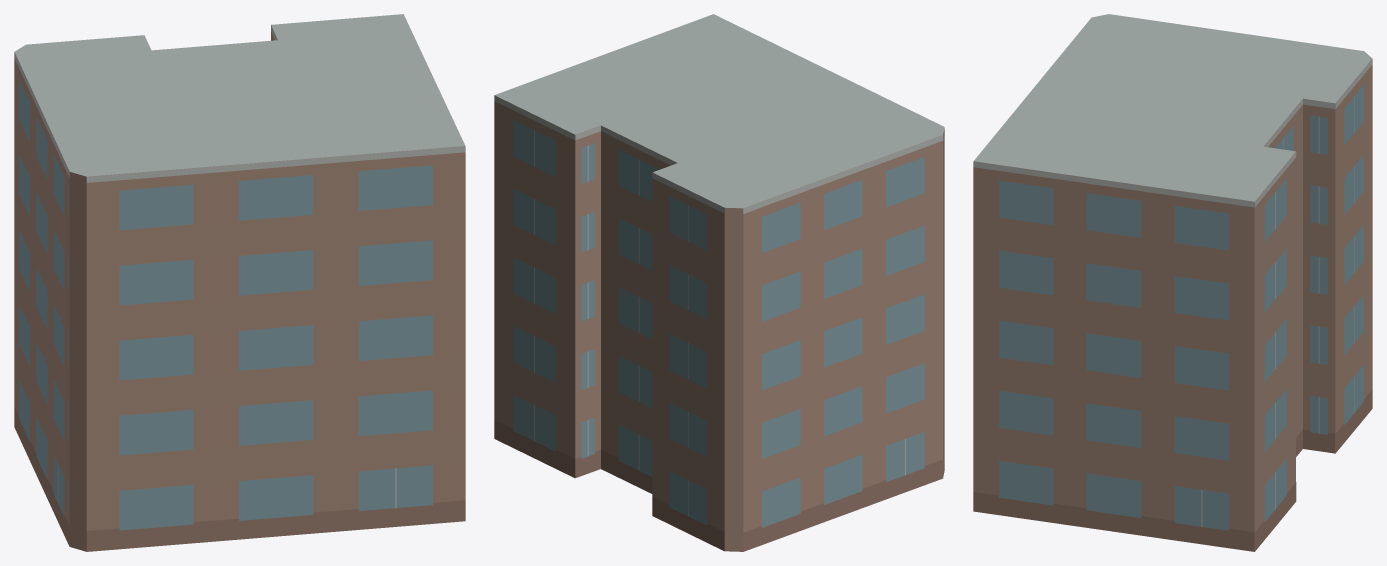
File: survey-upis-32941672.glb
The picture shows the model from 3 angles, left to right: view 1: azimuth 30°, elevation 25°; view 2: azimuth 150°, elevation 25°; view 3: azimuth 270°, elevation 25°; orthographic projection. The views are drawn at different scales.
Visible parts, largest first — view 1: survey-upis-32941672.tmp; view 2: survey-upis-32941672.tmp; view 3: survey-upis-32941672.tmp.
Boxes of the visible parts, x1,y1,x2,y2 form: survey-upis-32941672.tmp: (14, 14, 465, 551); survey-upis-32941672.tmp: (494, 14, 944, 551); survey-upis-32941672.tmp: (973, 14, 1372, 551).
Bounding box in the file's own units: 16.68 × 14.5 × 14.99.
